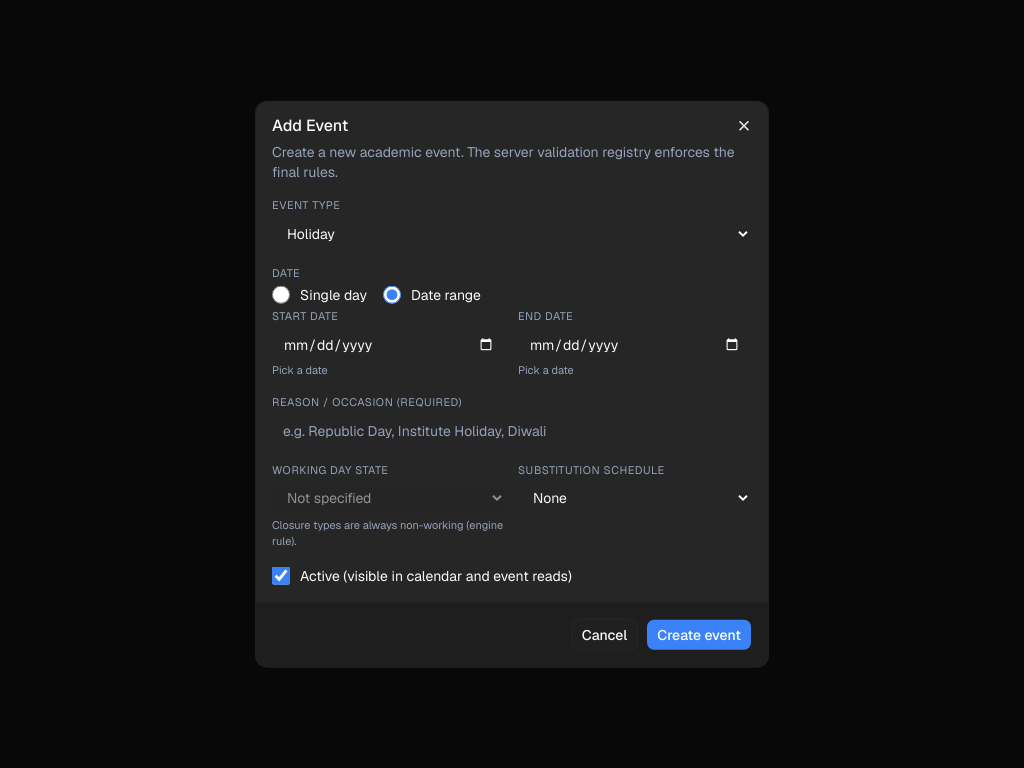
Scenario: Lab Cancelled single-day and occurrence semantics › restores Single day and Date range toggles when switching from Lab Cancelled to an ordinary event type
This screenshot has width=1024, height=768.
Select "Lab Cancelled" in the dropdown labelled "Event type" at [512, 233], box [272,217,752,249]
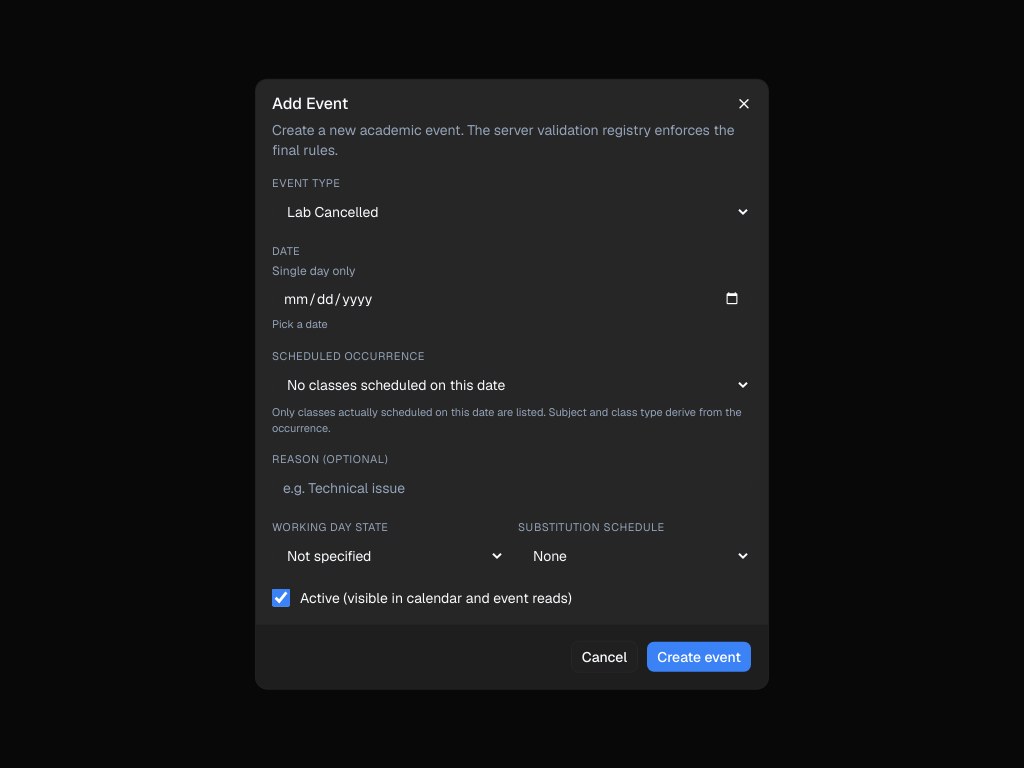
Check: the text "Date range" is gone
Select "Class Cancelled" in the dropdown labelled "Event type" at [512, 211], box [272,195,752,227]
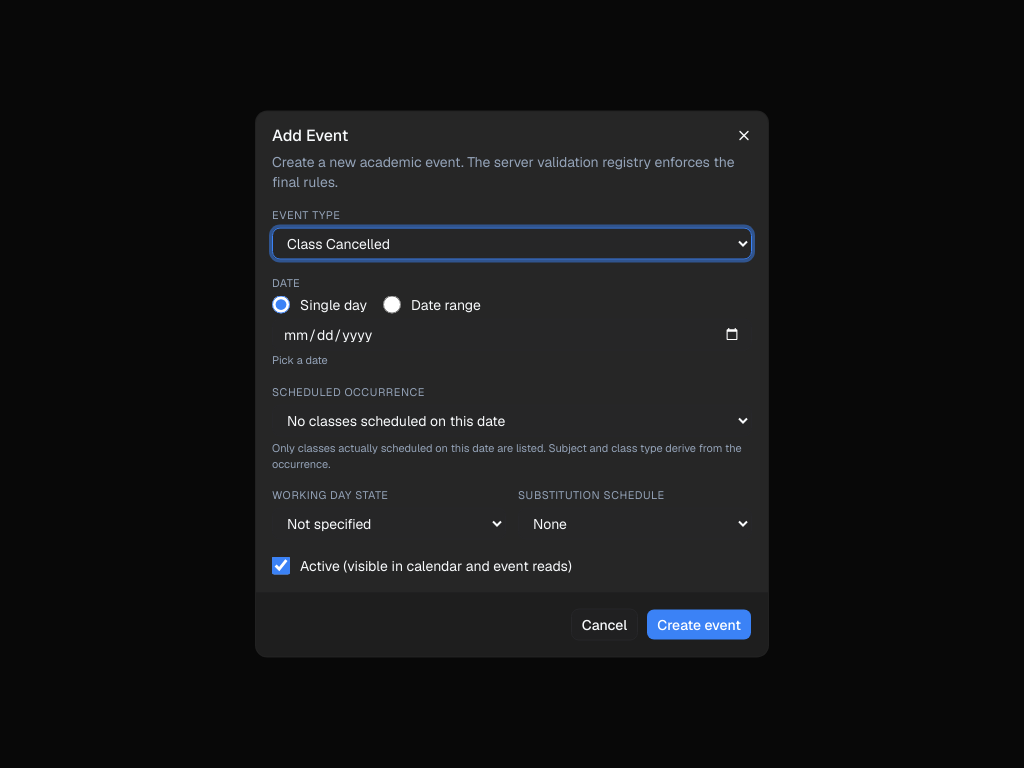
Check: the text "Single day" is shown, box [272,295,367,315]
Check: the text "Date range" is shown, box [383,295,481,315]
